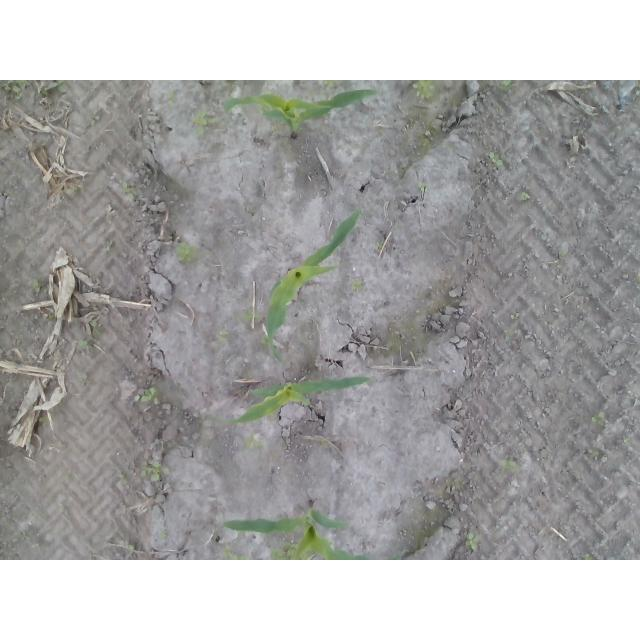Maize: (266, 207, 363, 361), (224, 500, 372, 561), (205, 375, 372, 425), (222, 88, 378, 140)
Weeds: (190, 109, 218, 135), (132, 385, 161, 404), (220, 542, 249, 560), (0, 80, 34, 94), (41, 80, 68, 97), (142, 462, 163, 483), (270, 544, 294, 561), (411, 80, 435, 97), (245, 432, 265, 449), (175, 244, 193, 262), (487, 151, 505, 169), (271, 343, 286, 363), (464, 532, 479, 552), (120, 183, 135, 200), (501, 456, 518, 470), (526, 127, 539, 145), (239, 310, 262, 320), (215, 328, 229, 344), (590, 411, 606, 425), (31, 272, 42, 292), (161, 527, 172, 547), (88, 111, 100, 128), (164, 91, 177, 106), (17, 530, 32, 543), (322, 80, 338, 92), (503, 328, 518, 340), (587, 448, 600, 461), (38, 416, 51, 429), (92, 323, 103, 338), (62, 186, 81, 194), (351, 278, 363, 290), (500, 81, 513, 92), (516, 191, 530, 201), (416, 184, 430, 193), (508, 312, 522, 321), (79, 339, 90, 350), (557, 247, 568, 257), (580, 552, 593, 560), (105, 238, 112, 252), (127, 544, 137, 552), (391, 553, 402, 560), (376, 240, 383, 249), (263, 336, 270, 345), (260, 90, 272, 95)
